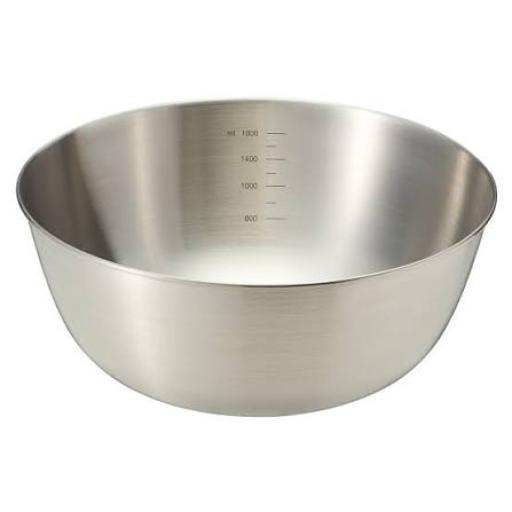Bowl: (17, 99, 497, 415)
